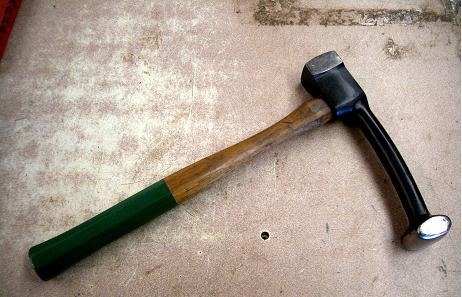hammer: (31, 49, 422, 281)
